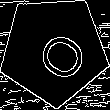O_NW: (22, 18, 86, 82)
